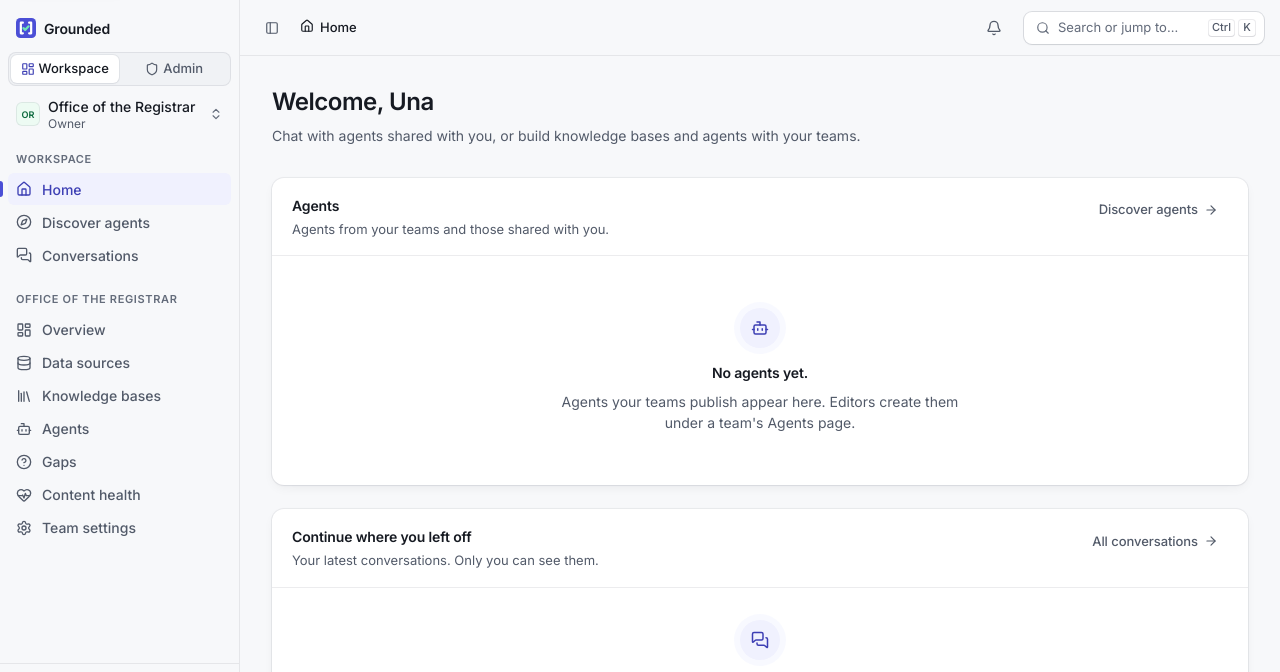
⌘K admin pages (I1) › takes “legal hold” to the Legal holds tab of Retention
expect the navigation bar named "Main" is shown: met, box [8,150,231,544]
Type keys "{Control>}k{/Control}"
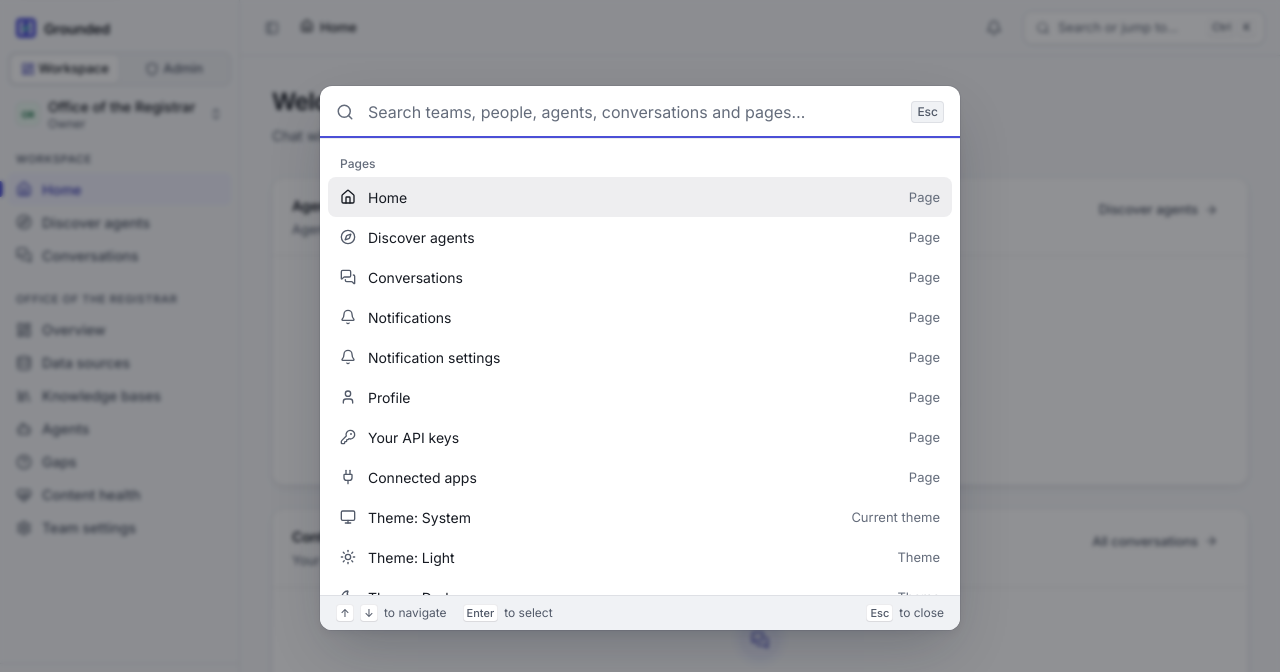
Type "legal hold" into the dropdown named "Command palette" at (633, 112), box [366,86,899,138]
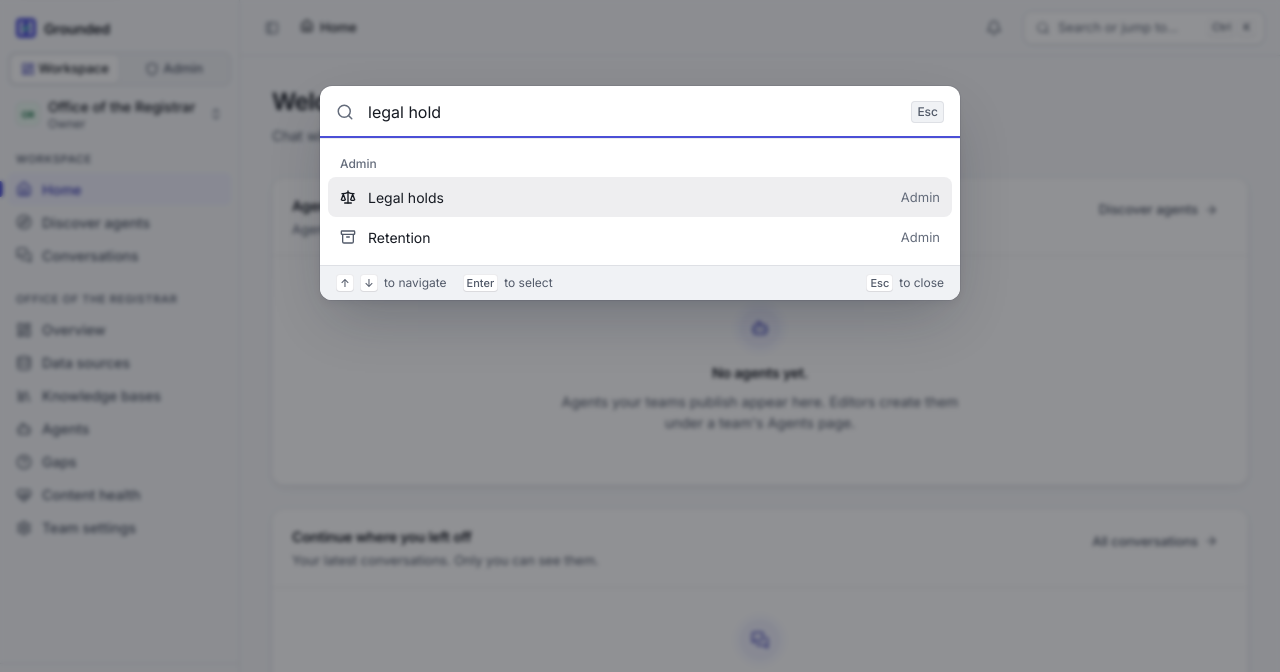
Click the option "Legal holds Admin" at (406, 197), box [328,177,952,217]
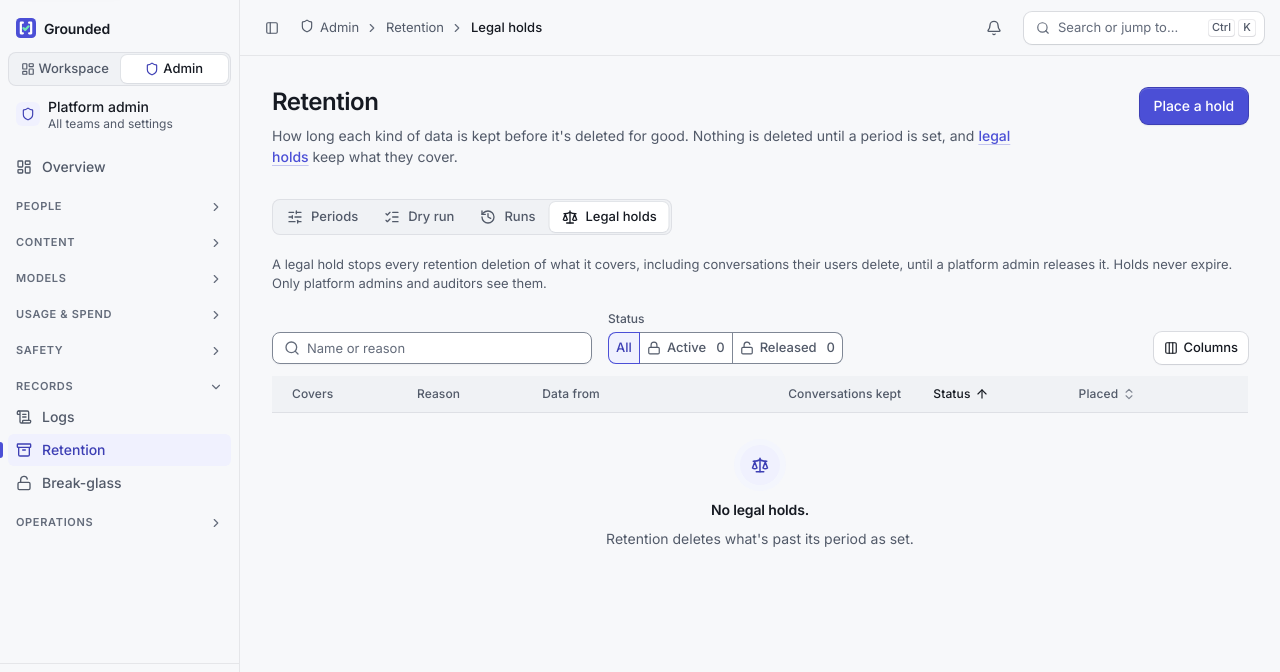
expect the tab "Legal holds" is shown: met, box [550,202,669,232]
